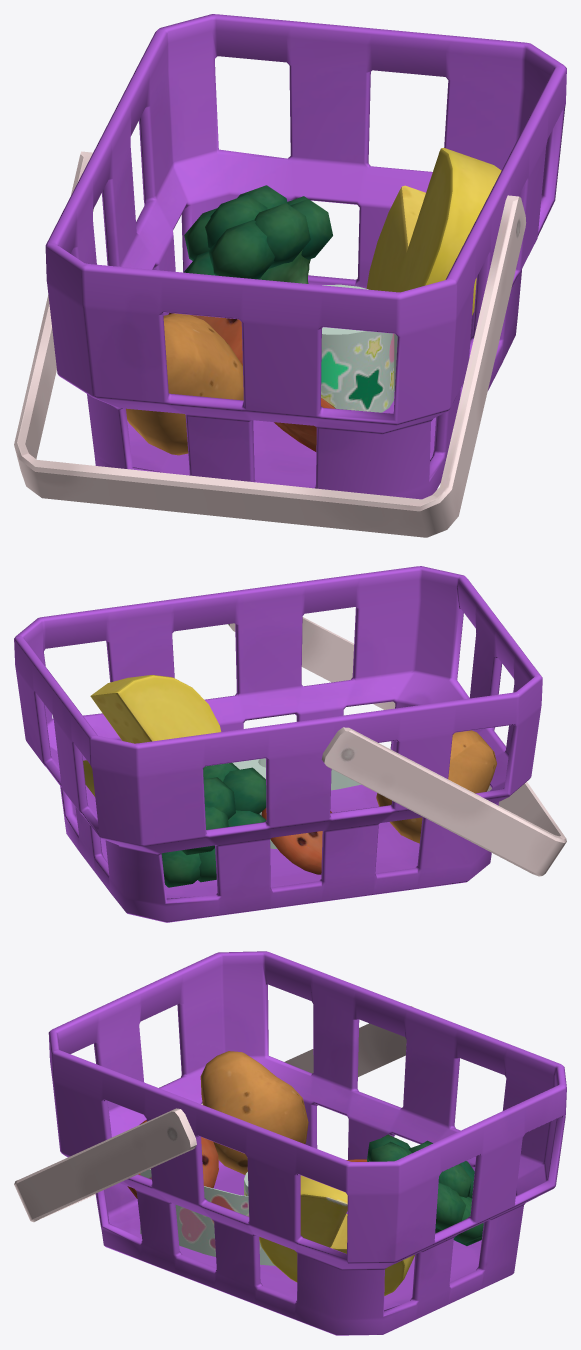
File: sepet.fbx
The picture shows the model from 3 angles, top to bottom: view 1: azimuth 30°, elevation 25°; view 2: azimuth 150°, elevation 25°; view 3: azimuth 270°, elevation 25°; orthographic projection. The views are drawn at different scales.
Parts seen in each view (by area): view 1: Basket_Handle; view 2: Basket_Handle; view 3: Basket_Handle.
Boxes of the visible parts, x1,y1,x2,y2 form: Basket_Handle: [14, 14, 566, 537]; Basket_Handle: [14, 566, 566, 922]; Basket_Handle: [14, 951, 566, 1335].
Bounding box in the file's own units: 50.62 × 19.88 × 51.34.
2 materials, 2 textured.
